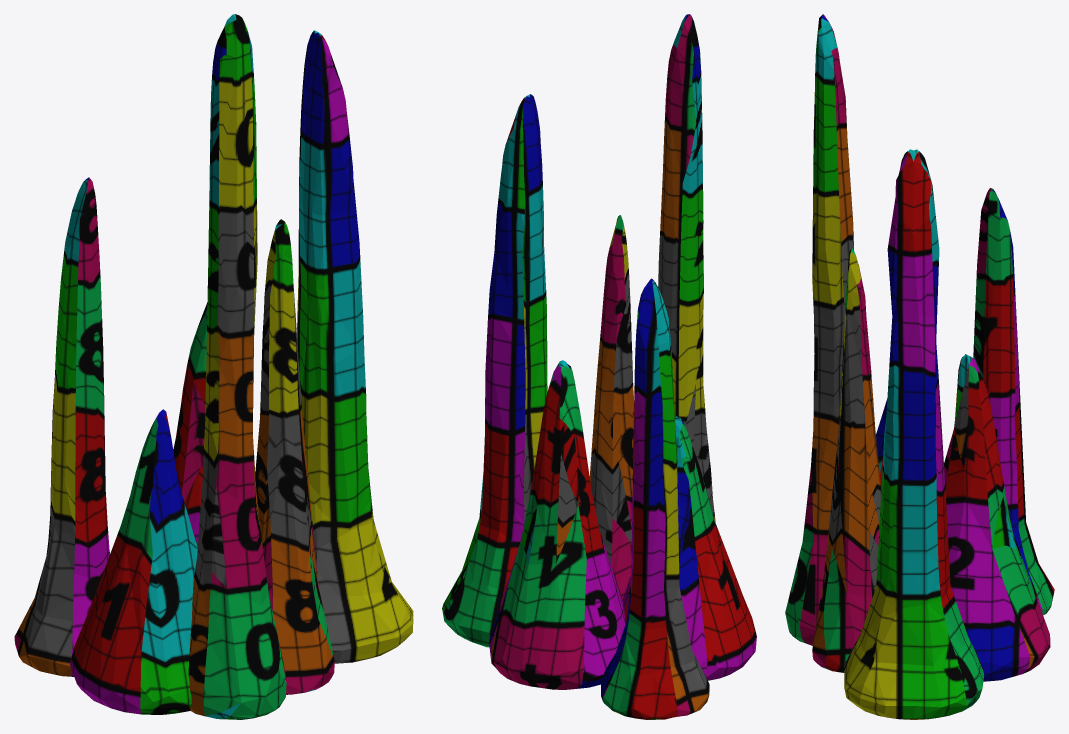
Rendered from stalactites-icicles.fbx.
3 renders of one model, left to right at view 1: azimuth 30°, elevation 25°; view 2: azimuth 150°, elevation 25°; view 3: azimuth 270°, elevation 25°, orthographic. The views are drawn at different scales.
Parts seen in each view (by area): view 1: pCube36; view 2: pCube36; view 3: pCube36.
Boxes of the visible parts, <box> form: pCube36: <box>14,14,413,719</box>; pCube36: <box>442,14,756,719</box>; pCube36: <box>785,14,1054,719</box>.
Size of the model in its own units: 1.45 by 2.94 by 1.15.
Materials: 1 (1 with a texture image).
